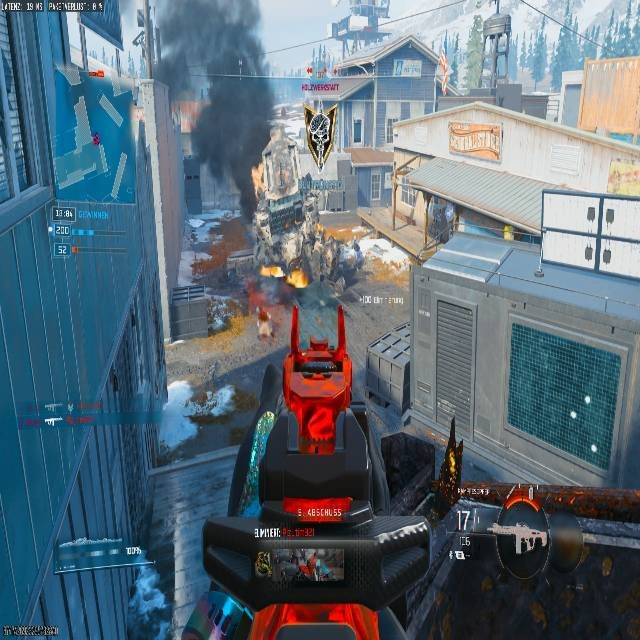player: (305, 107, 335, 161), (303, 192, 320, 234)
